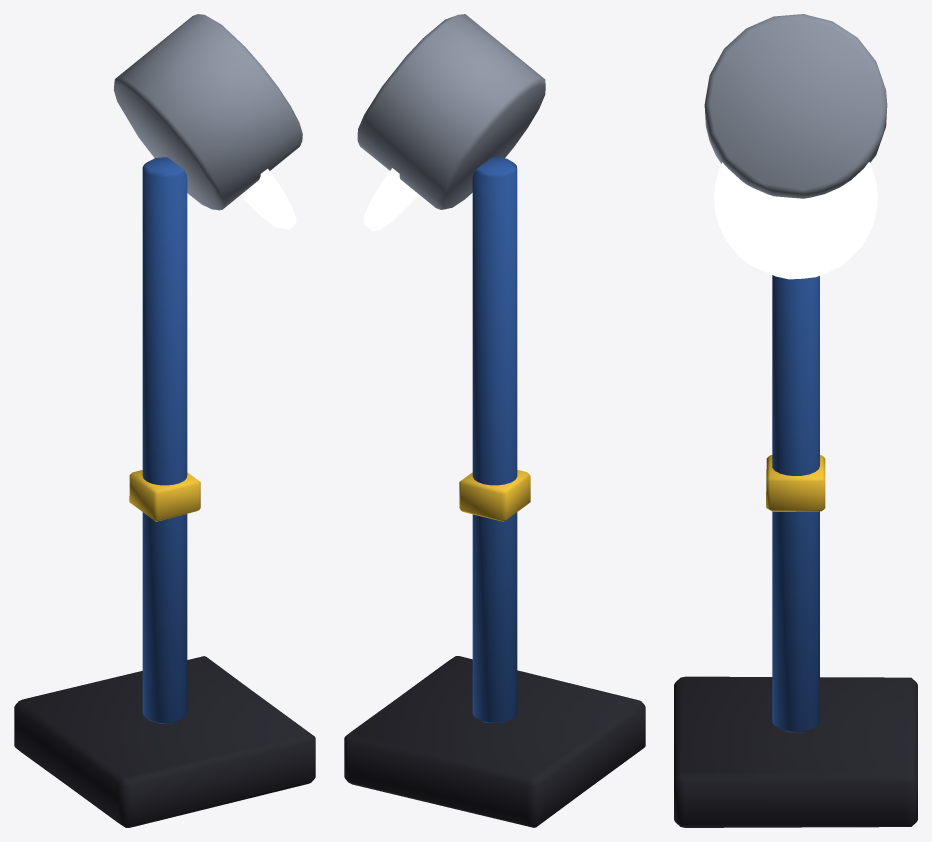
File: searchlight.glb
The picture shows the model from 3 angles, left to right: view 1: azimuth 30°, elevation 25°; view 2: azimuth 150°, elevation 25°; view 3: azimuth 270°, elevation 25°; orthographic projection. The views are drawn at different scales.
Parts seen in each view (by area): view 1: searchlight.002, head.038; view 2: searchlight.002, head.038; view 3: searchlight.002, head.038.
Boxes of the visible parts, x1,y1,x2,y2 form: searchlight.002: (14,157,315,827); head.038: (114,14,302,229); searchlight.002: (344,157,645,827); head.038: (357,14,545,231); searchlight.002: (674,275,917,827); head.038: (704,14,887,279).
Bounding box in the file's own units: 1.32 × 4.26 × 1.19.
Materials: 1 (1 with a texture image).
